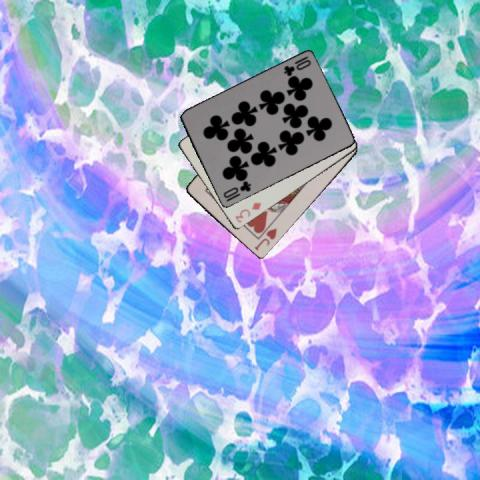10c: (220, 178, 253, 203), (281, 53, 312, 78)
3d: (232, 199, 263, 225)
Jh: (251, 225, 279, 253)
